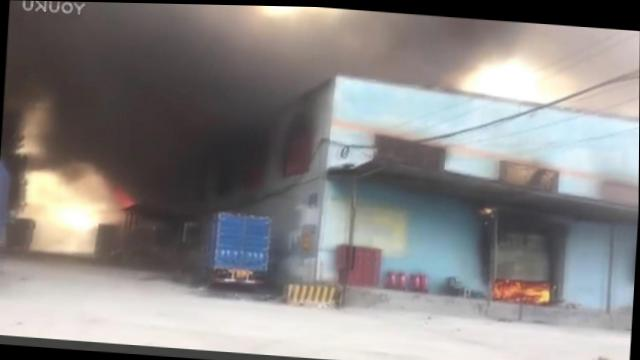fire: (494, 277, 552, 301)
